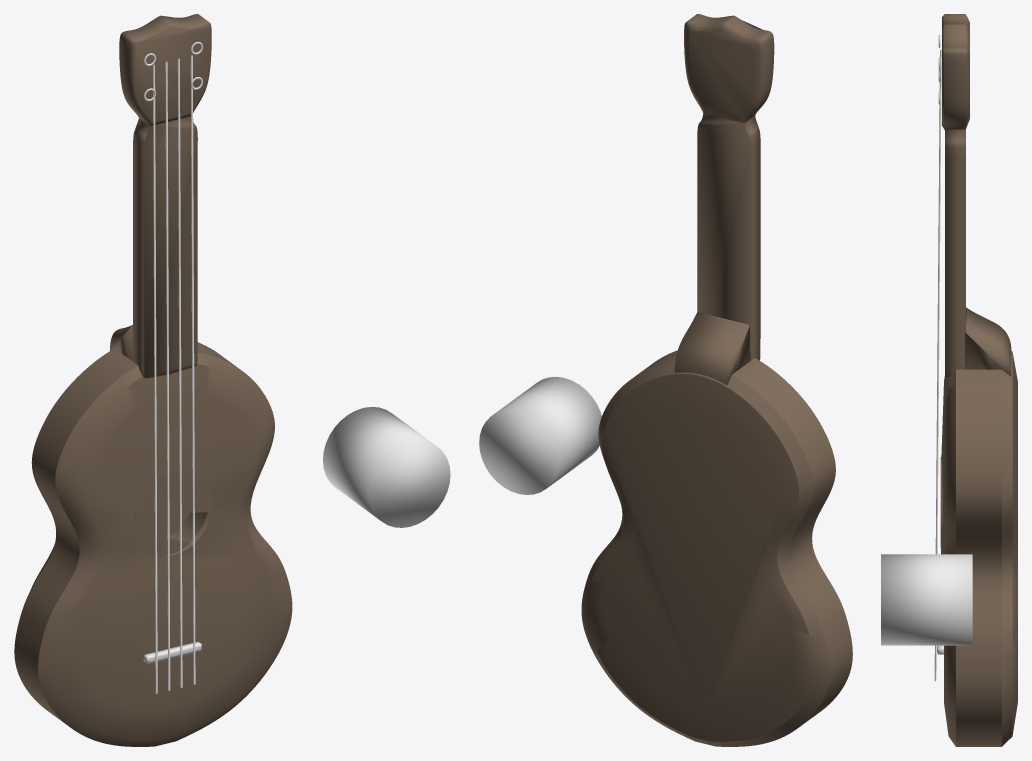
File: UkeleleOriginal.fbx
3 renders of one model, left to right at view 1: azimuth 30°, elevation 25°; view 2: azimuth 150°, elevation 25°; view 3: azimuth 270°, elevation 25°, orthographic. The views are drawn at different scales.
Parts seen in each view (by area): view 1: NurbsPath, NurbsPath.003, Cylinder, NurbsPath.002, Cylinder.001, Cylinder.002, Cylinder.003; view 2: NurbsPath, NurbsPath.003, Cylinder, NurbsPath.002, NurbsPath.001; view 3: NurbsPath, Cylinder, NurbsPath.003, NurbsPath.002, NurbsPath.001, Cylinder.001.
Boxes of the visible parts, x1,y1,x2,y2 form: NurbsPath: [14, 342, 292, 746]; NurbsPath.003: [133, 116, 197, 378]; Cylinder: [323, 407, 450, 527]; NurbsPath.002: [119, 14, 211, 126]; Cylinder.001: [153, 55, 195, 693]; Cylinder.002: [165, 61, 170, 690]; Cylinder.003: [177, 58, 182, 687]; NurbsPath: [581, 350, 852, 746]; NurbsPath.003: [697, 113, 760, 360]; Cylinder: [479, 376, 601, 494]; NurbsPath.002: [684, 14, 774, 122]; NurbsPath.001: [674, 312, 750, 384]; NurbsPath: [940, 351, 1017, 746]; Cylinder: [881, 554, 972, 645]; NurbsPath.003: [945, 129, 965, 377]; NurbsPath.002: [942, 14, 969, 129]; NurbsPath.001: [965, 307, 1011, 376]; Cylinder.001: [934, 49, 941, 681].
Bounding box in the file's own units: 358 × 662 × 116.
